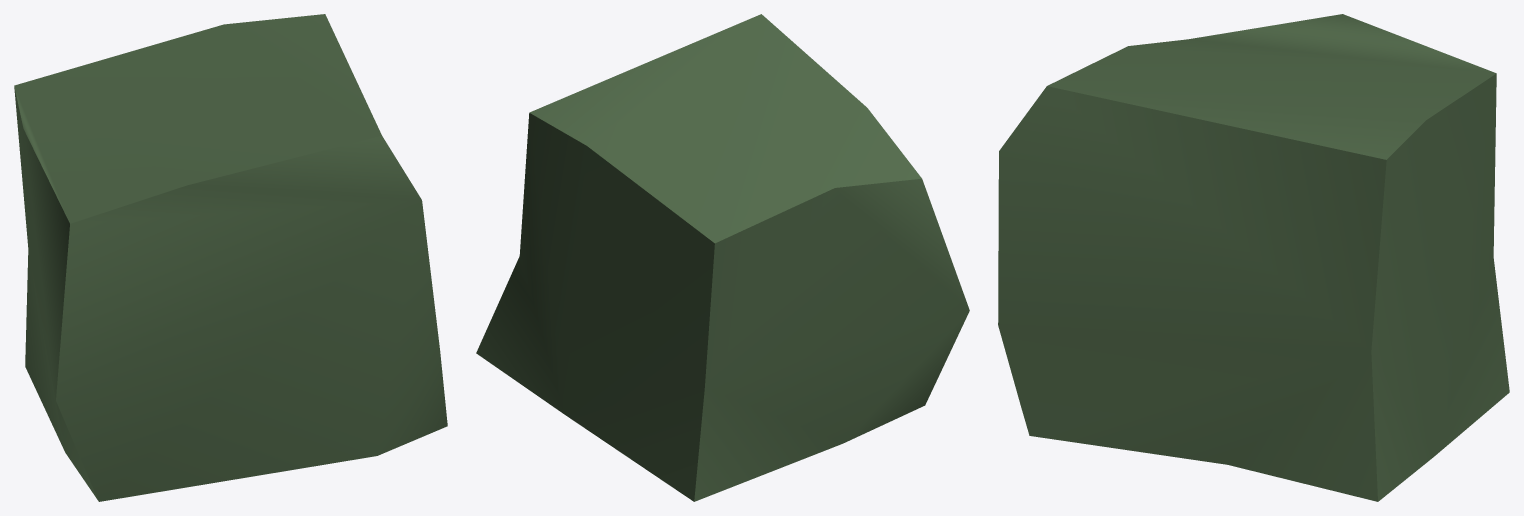
The model's file is SmallRock-Shrine.fbx.
3 views of the same model, side by side, from view 1: azimuth 30°, elevation 25°; view 2: azimuth 150°, elevation 25°; view 3: azimuth 270°, elevation 25° (orthographic). The views are drawn at different scales.
Visible parts, largest first — view 1: smallRock; view 2: smallRock; view 3: smallRock.
Boxes of the visible parts, x1,y1,x2,y2 form: smallRock: (14, 14, 447, 501); smallRock: (476, 14, 969, 501); smallRock: (998, 14, 1509, 501).
Size of the model in its own units: 2.59 by 1.97 by 2.41.
